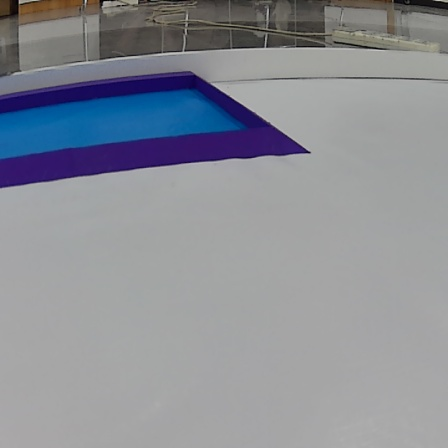blue_aim: (4, 70, 313, 189)
